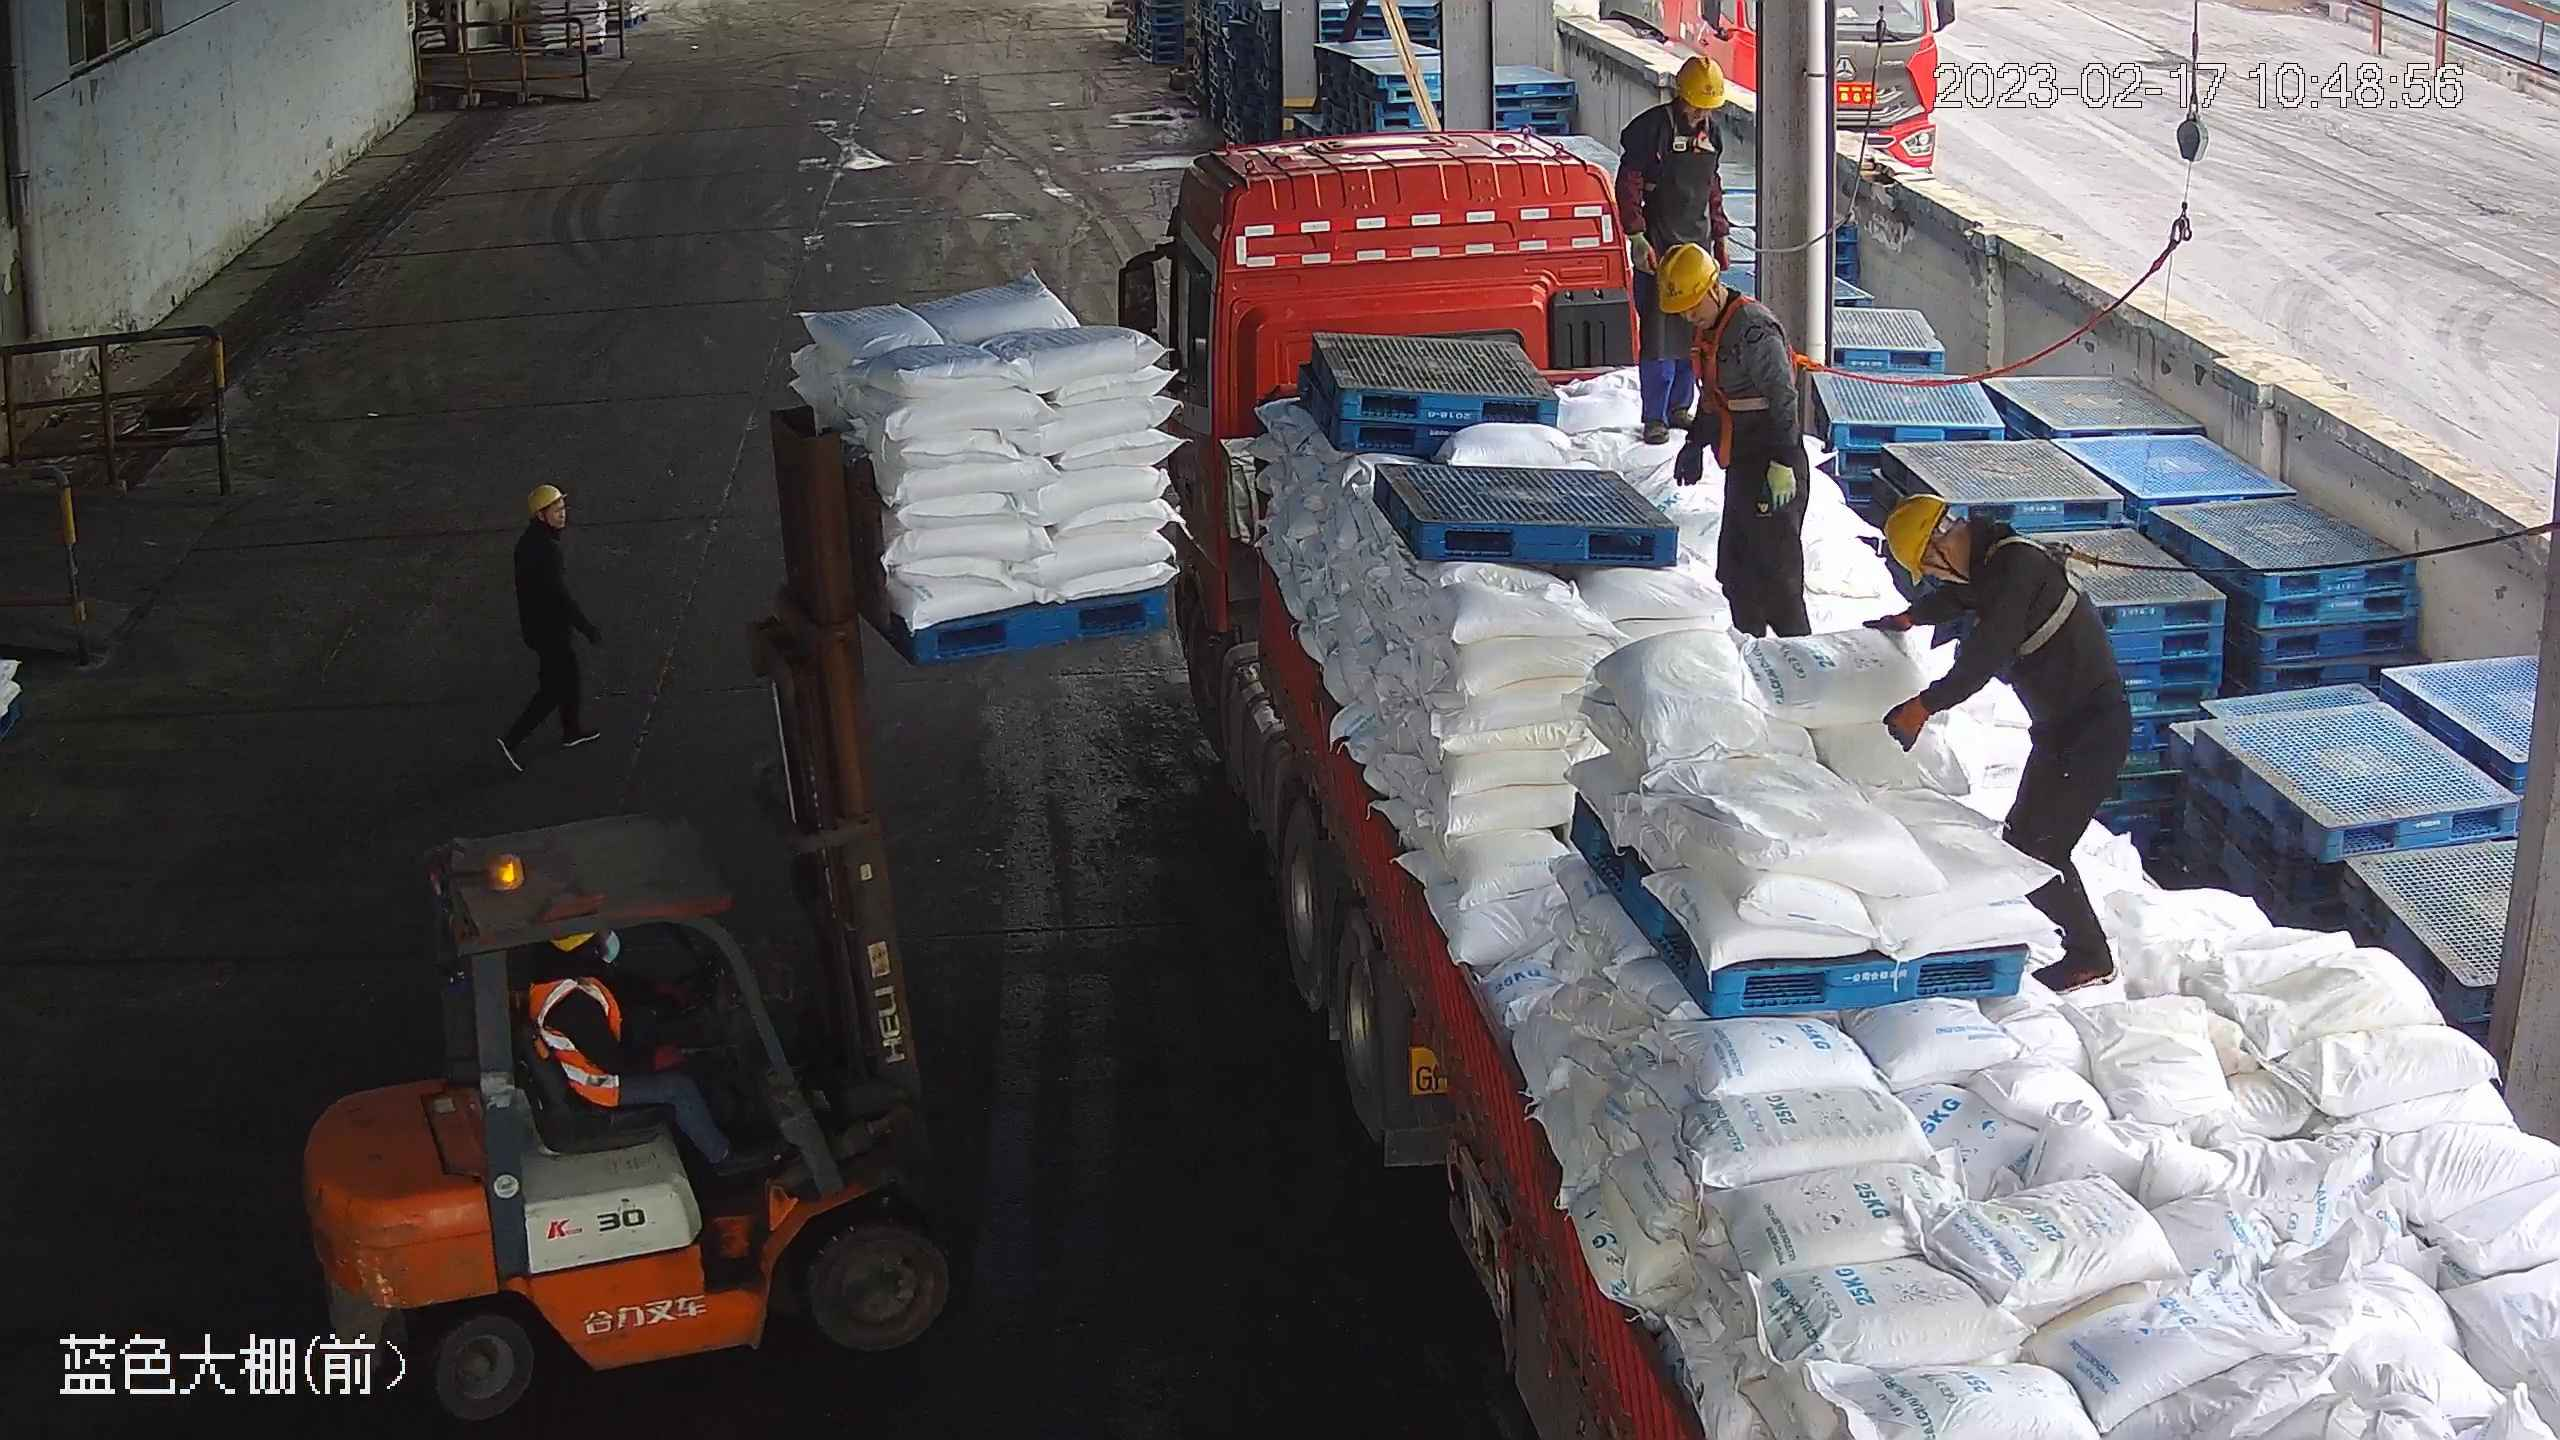belt: (1883, 489, 2053, 627), (1981, 526, 2102, 662), (1660, 246, 1792, 370), (1617, 51, 1739, 162), (1693, 291, 1803, 414), (1659, 97, 1724, 158)
head: (1609, 41, 1739, 428), (1878, 489, 2047, 623), (1656, 243, 1795, 371), (1614, 50, 1741, 164), (526, 929, 628, 1038), (1878, 488, 1958, 581), (514, 480, 573, 572)
helmet: (1614, 39, 1735, 443), (1879, 488, 1957, 581), (515, 480, 572, 569), (1654, 242, 1723, 312), (1674, 52, 1734, 110), (527, 482, 566, 516)
people: (1873, 484, 2136, 1001), (1654, 242, 1830, 639), (526, 924, 757, 1183), (1613, 44, 1735, 445), (494, 478, 609, 773)
truck: (1111, 120, 2560, 1440)
